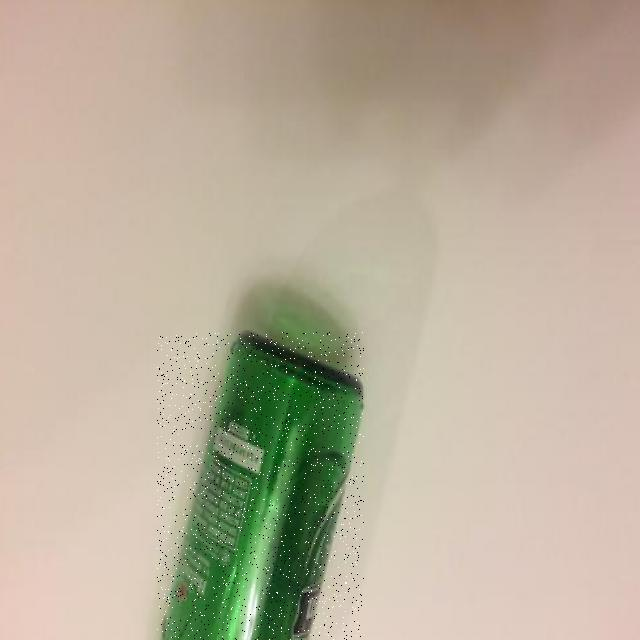glass: (158, 332, 364, 640)
